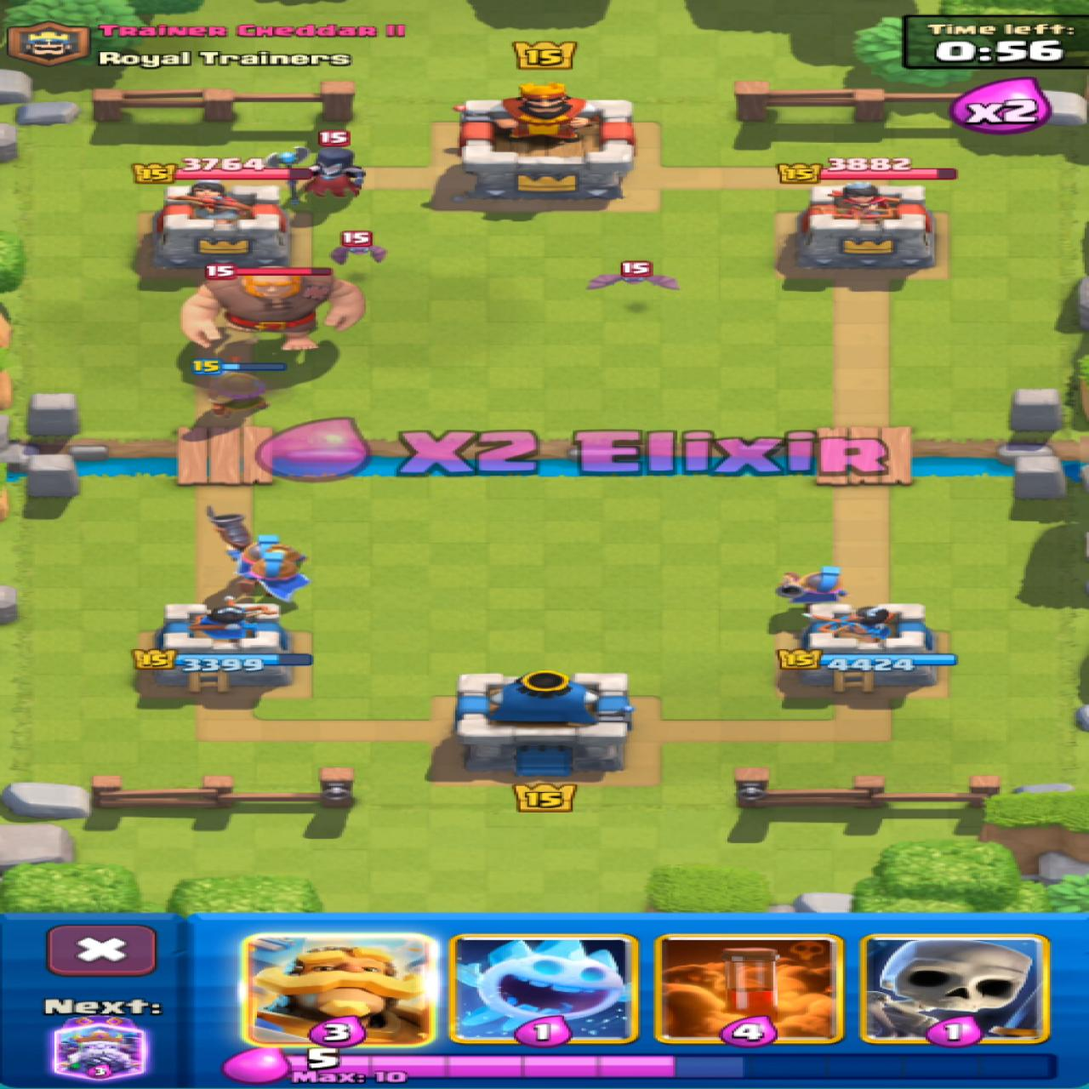Enemy-Bat: (588, 260, 677, 289), (331, 232, 386, 263)
Enemy-Giant: (183, 271, 364, 350)
Enemy-KingTower: (451, 85, 634, 201)
Enemy-NightWitch: (303, 131, 364, 197), (268, 147, 307, 167), (287, 179, 296, 204)
Enemy-PrincessTower: (797, 182, 932, 269), (152, 181, 287, 267)
